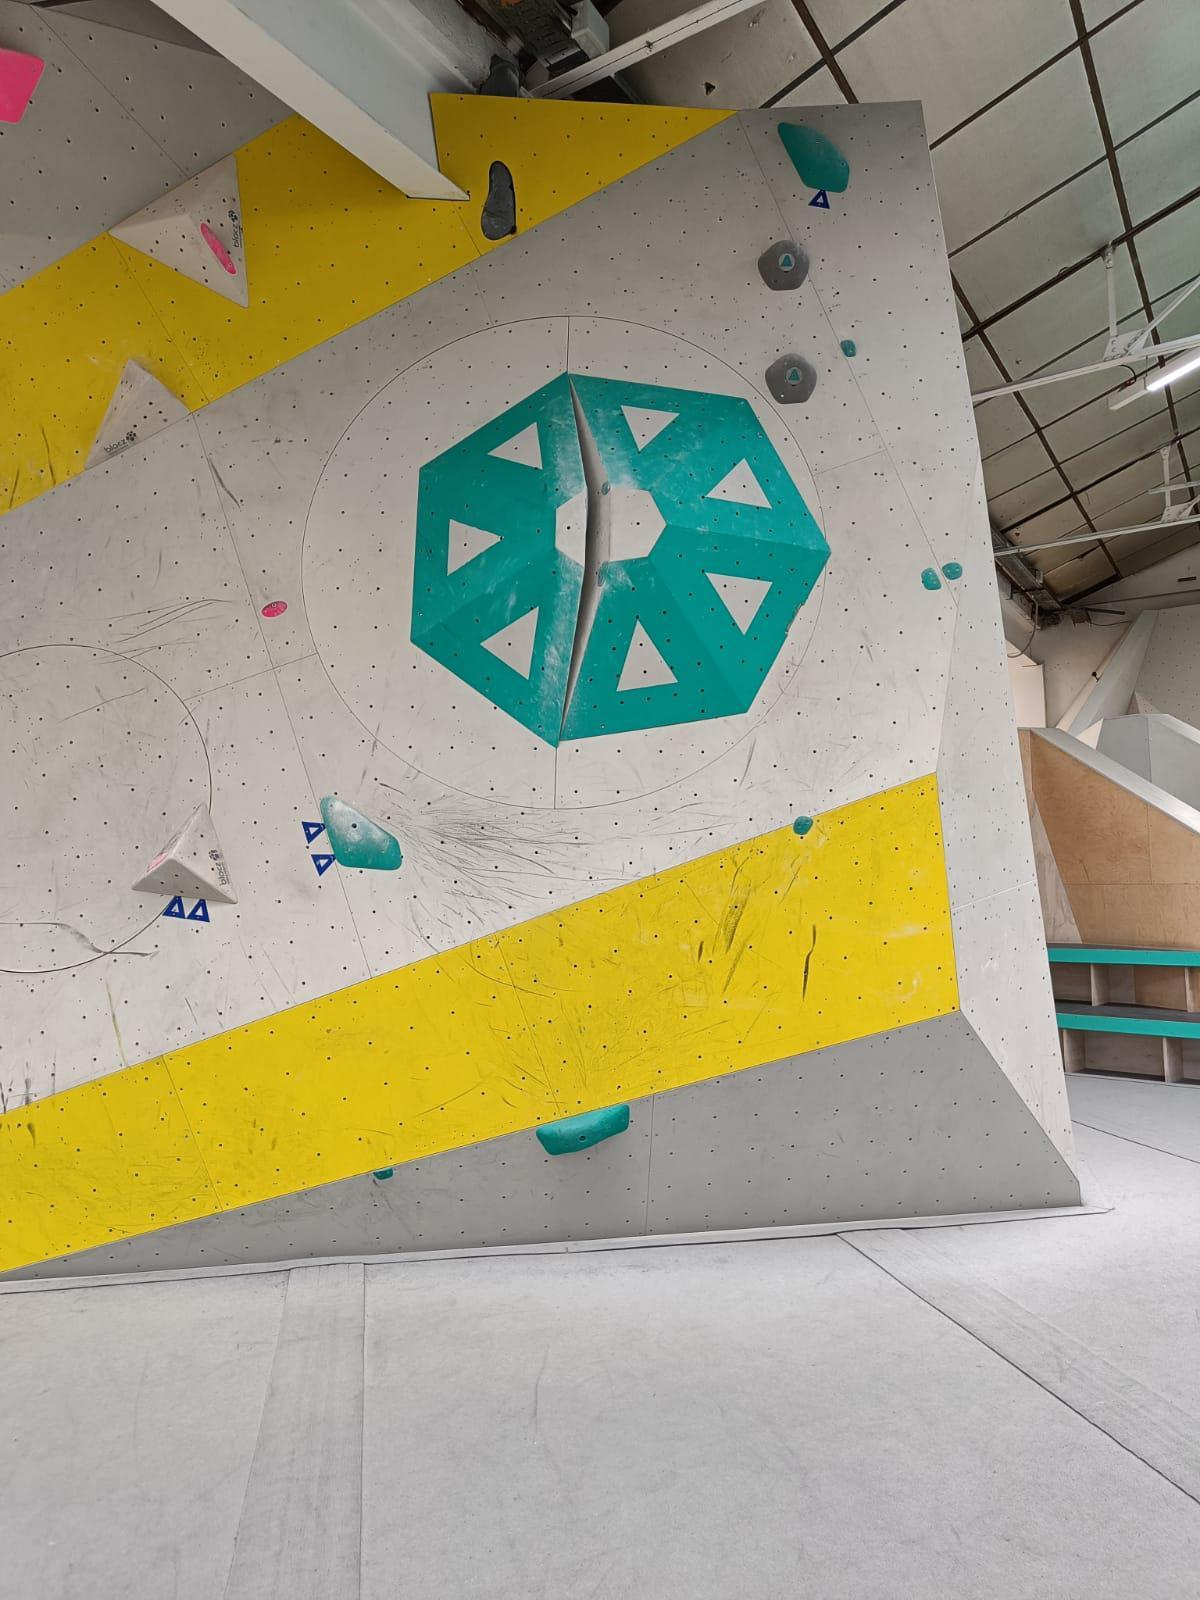hold: (560, 374, 832, 741), (411, 372, 587, 748), (320, 795, 402, 869), (778, 122, 850, 193), (536, 1104, 629, 1155), (0, 47, 45, 123), (480, 161, 516, 239), (758, 239, 809, 290), (766, 353, 817, 403), (200, 223, 236, 275), (921, 568, 942, 590), (262, 601, 287, 617), (147, 852, 168, 872), (942, 562, 963, 580), (794, 816, 813, 834), (841, 340, 856, 357), (373, 1168, 393, 1179)
volume: (107, 152, 248, 307), (83, 359, 189, 470), (131, 800, 237, 903)
